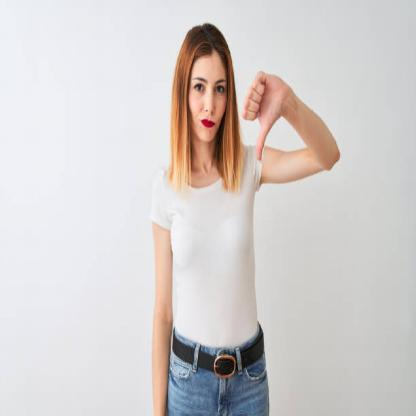thumb_down: (243, 66, 286, 167)
